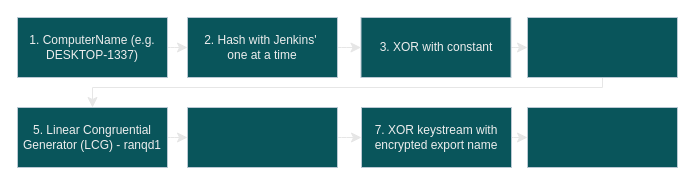
Image size: 695x185. Some labels were removed from this diagram. Each missing label, with the centre of its shape:
"4. Final seed (32-bit integer)" belongs at (602,47).
"6. Keystream (0x2433f6dd98178a61) converted to bytes" belongs at (262,137).
"8. Decrypted export name is loaded and executed" belongs at (602,137).
